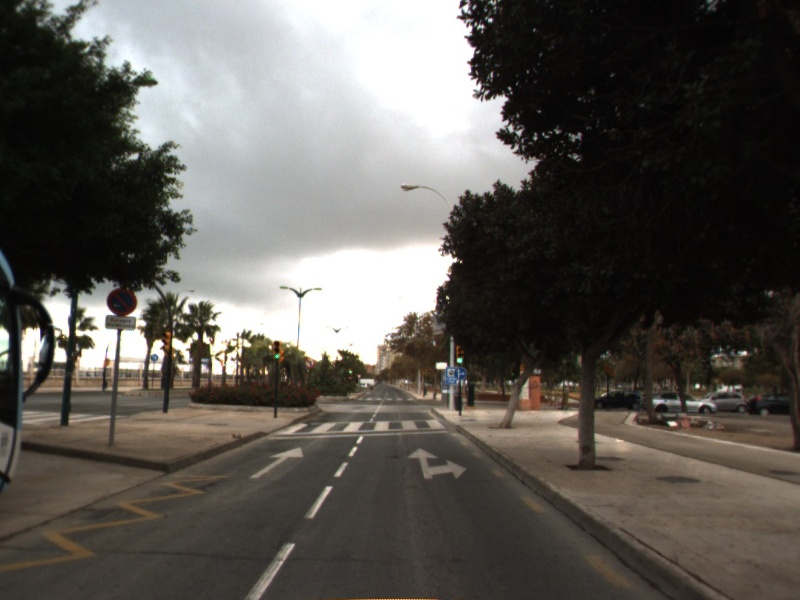STRAIGHT: (248, 445, 305, 480)
STRAIGHT_RIGHT: (406, 446, 470, 482)
